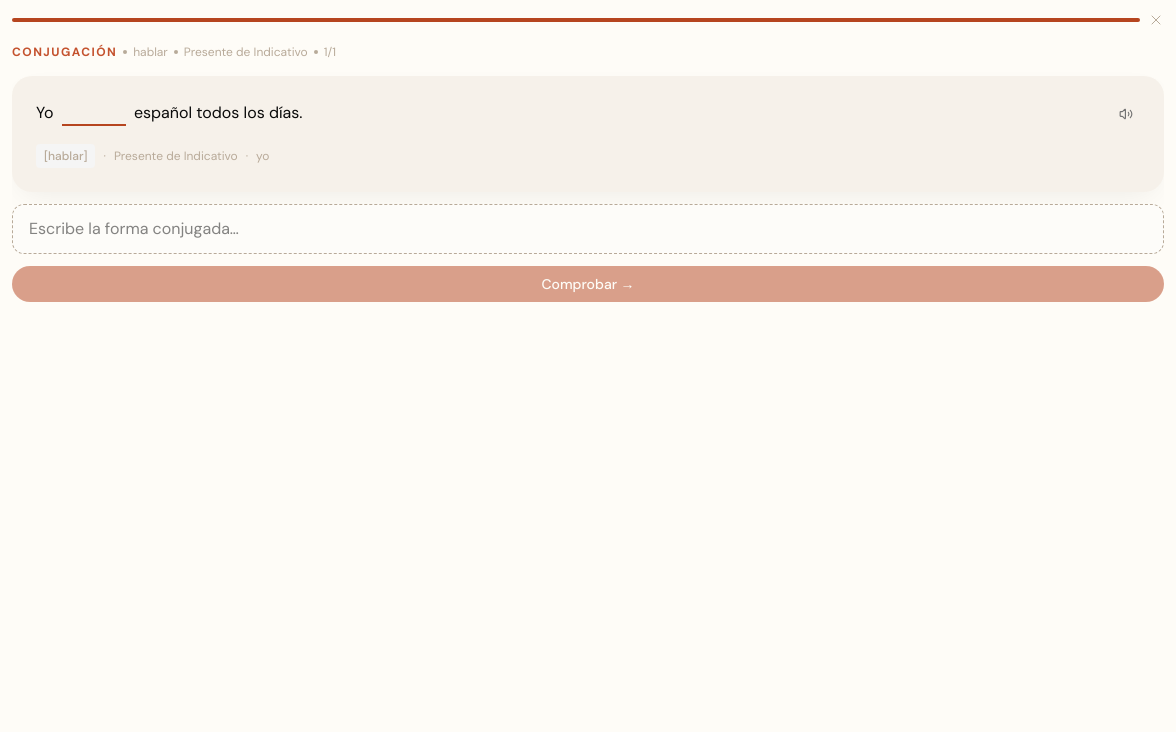
Scenario: VerbSession › shows accent_error feedback and hides input
In the field with placeholder "Escribe la forma conjugada…": (588, 229) [29, 217, 1147, 241], type "hablo"
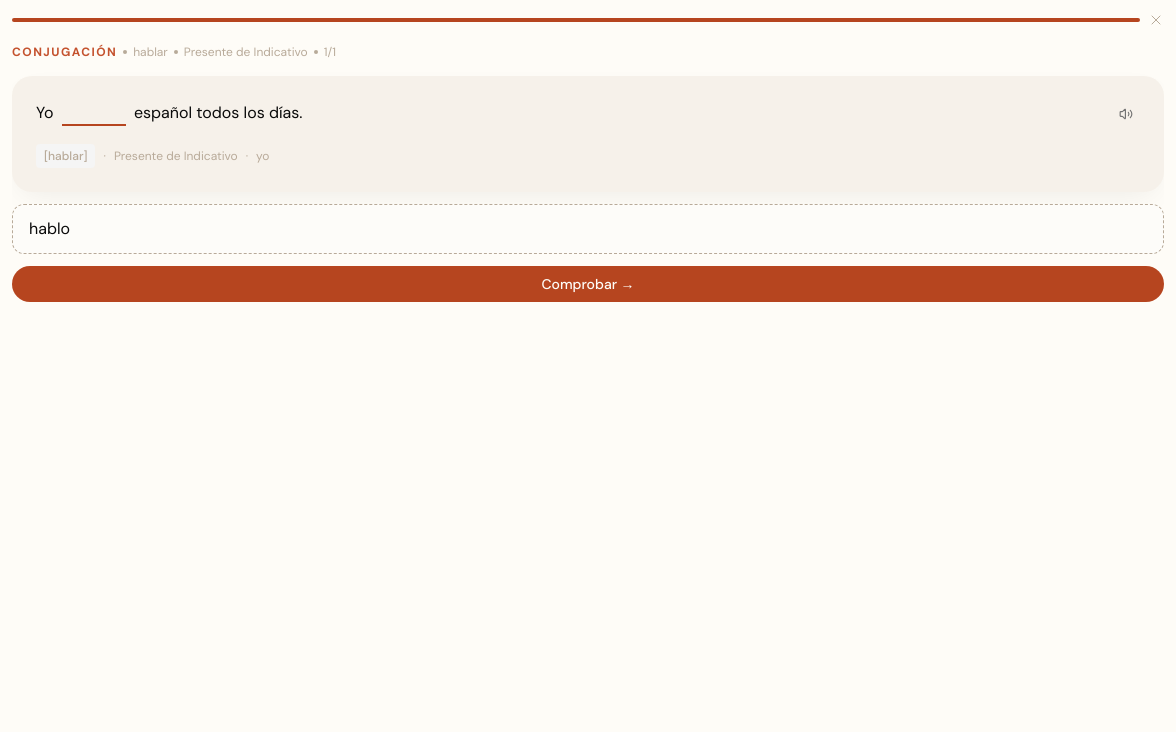
Click the button "Comprobar →": click(588, 284) [12, 266, 1164, 302]
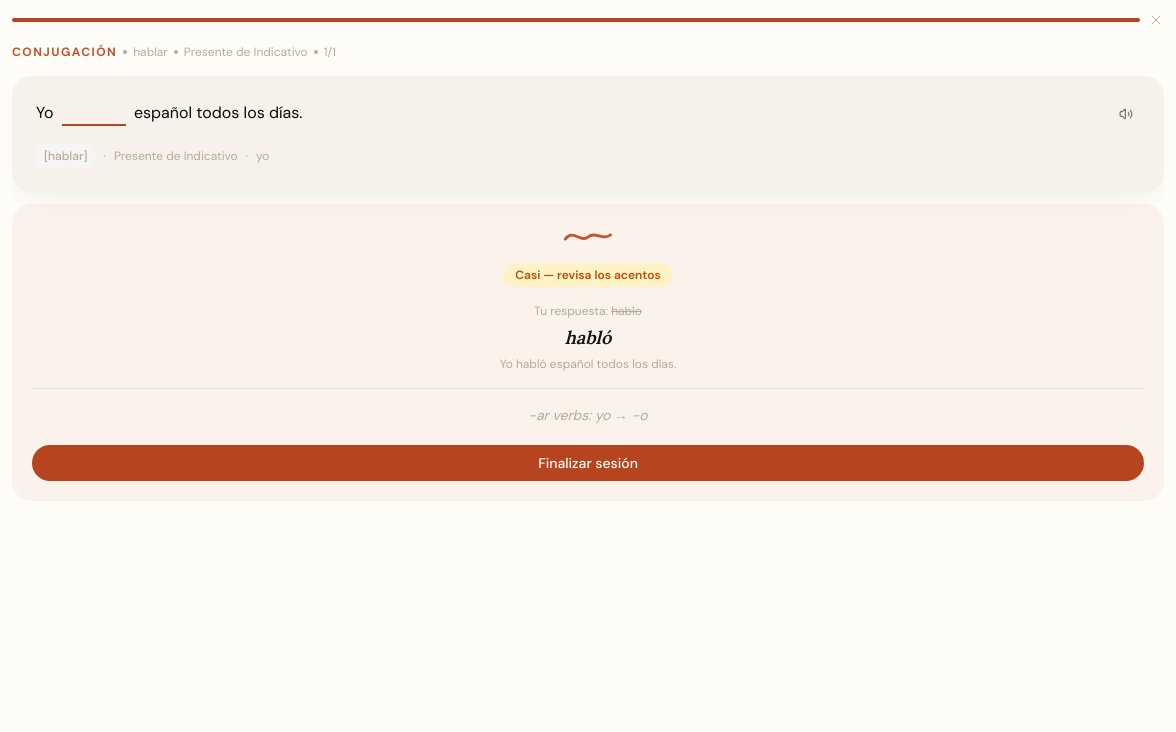
expect the field with placeholder "Escribe la forma conjugada" is not shown: met
expect the text "Casi — revisa los acentos" is shown: met, box [503, 263, 673, 287]
